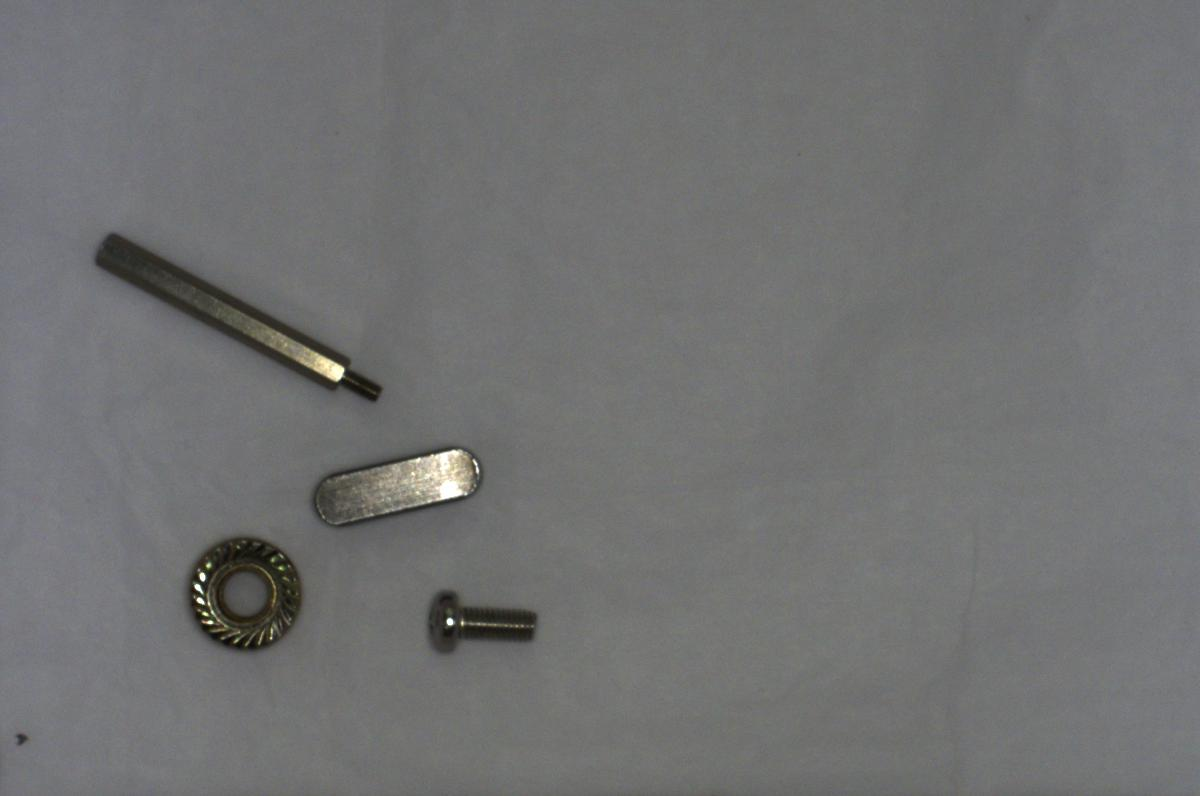Flange nut: (177, 527, 308, 650)
Hexagonal steel column: (84, 221, 397, 413)
Keybar: (308, 436, 491, 532)
Round head screw: (417, 583, 545, 658)
